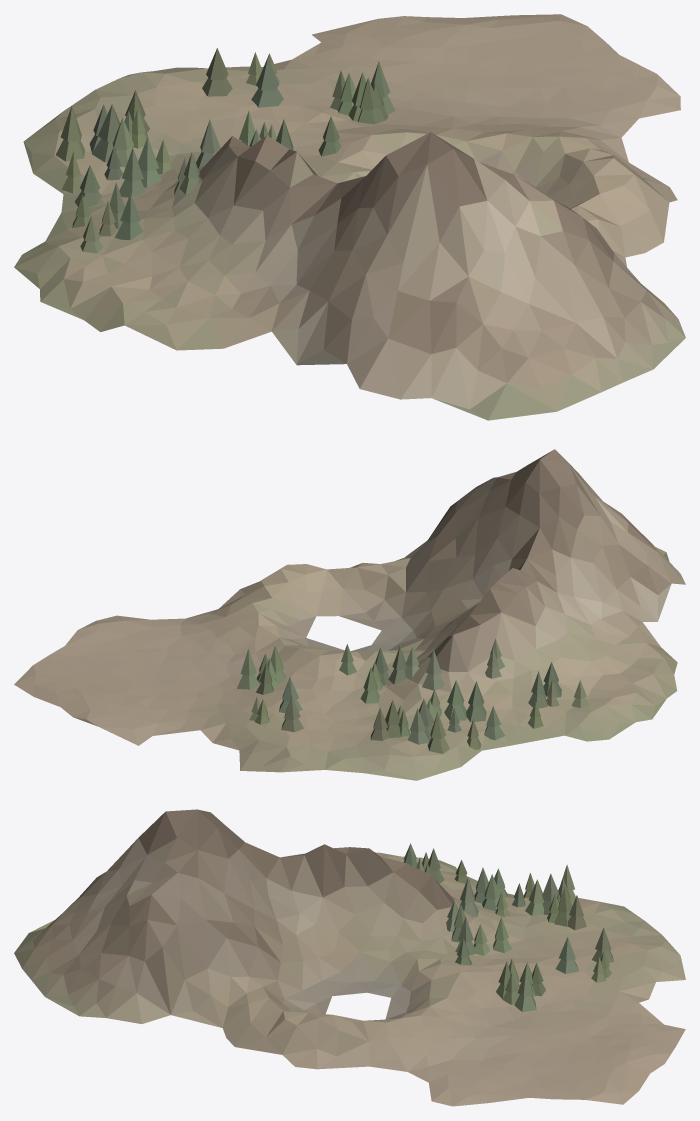
File: range_liupan.glb
The picture shows the model from 3 angles, top to bottom: view 1: azimuth 30°, elevation 25°; view 2: azimuth 150°, elevation 25°; view 3: azimuth 270°, elevation 25°; orthographic projection. The views are drawn at different scales.
Parts seen in each view (by area): view 1: range_liupan, trees_liupan; view 2: range_liupan, trees_liupan; view 3: range_liupan, trees_liupan.
Part boxes in pixels (bbox=[...]): range_liupan: bbox=[14, 14, 685, 420]; trees_liupan: bbox=[55, 48, 395, 253]; range_liupan: bbox=[14, 449, 685, 780]; trees_liupan: bbox=[237, 638, 588, 753]; range_liupan: bbox=[14, 809, 685, 1106]; trees_liupan: bbox=[403, 843, 614, 1011].
Bounding box in the file's own units: 91.14 × 24.32 × 103.
